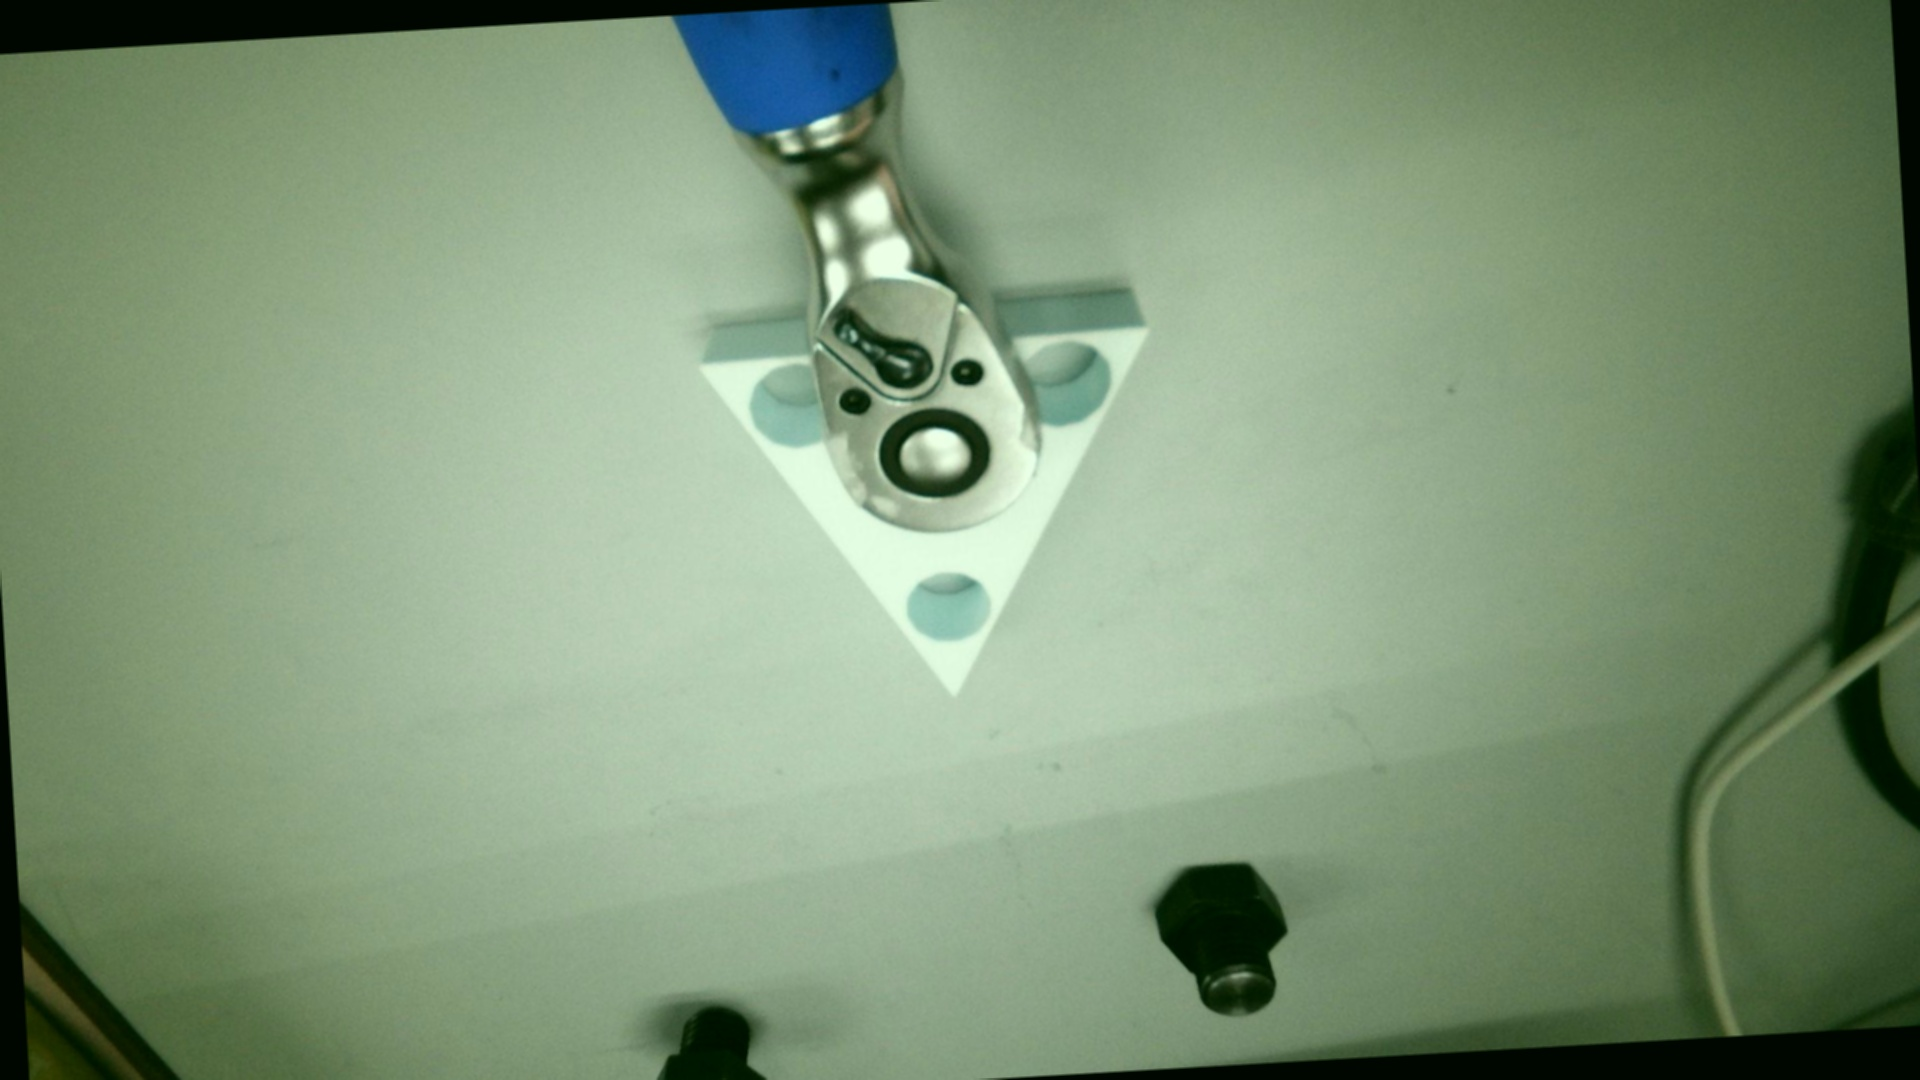hole: (1015, 338, 1113, 430), (746, 363, 829, 450), (905, 570, 993, 644)
obj: (698, 286, 1171, 709)
wrench: (876, 405, 992, 502)
